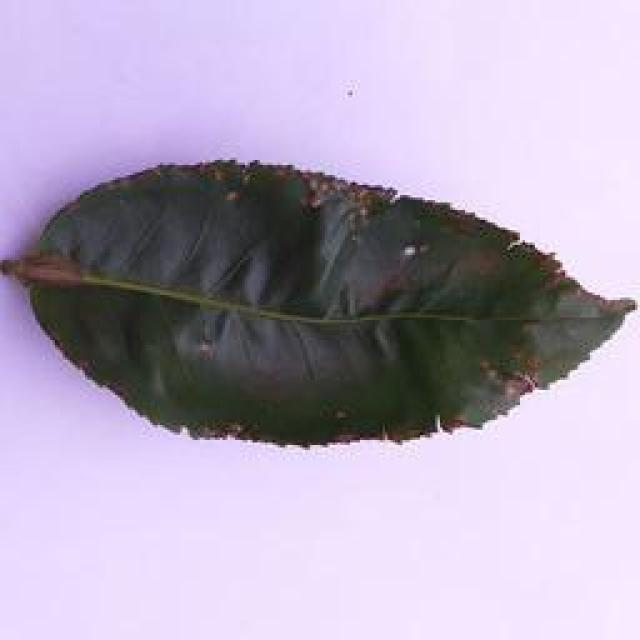Helopeltis: (0, 160, 638, 449)
